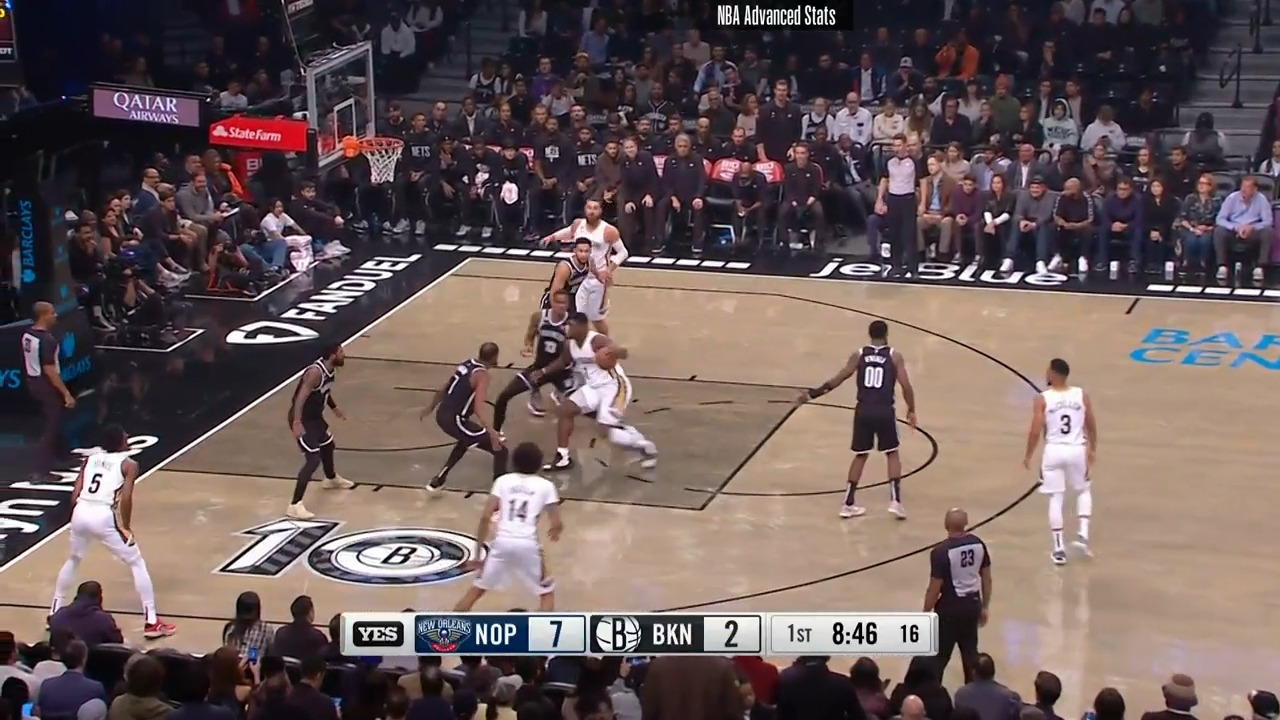net: (338, 129, 403, 184)
player: (44, 422, 169, 647), (800, 316, 920, 521), (532, 312, 661, 482), (452, 440, 576, 612), (1020, 353, 1107, 574), (420, 339, 513, 497), (493, 286, 585, 437), (282, 337, 356, 519), (542, 202, 627, 327), (544, 238, 608, 320)
referee: (918, 502, 1001, 686), (17, 297, 88, 463), (867, 129, 928, 280)
